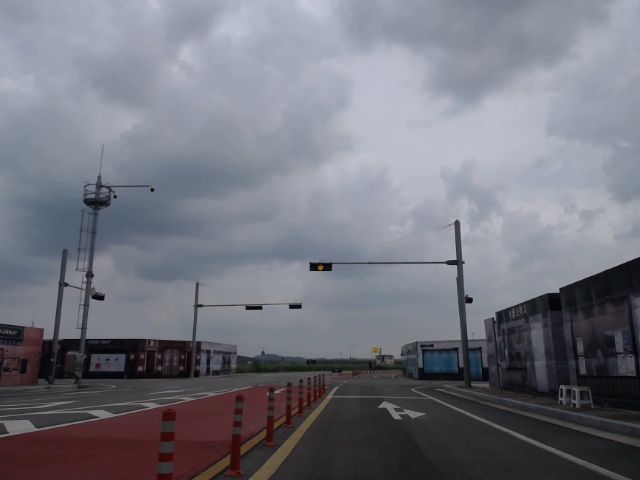orange_3: (309, 263, 332, 272)
